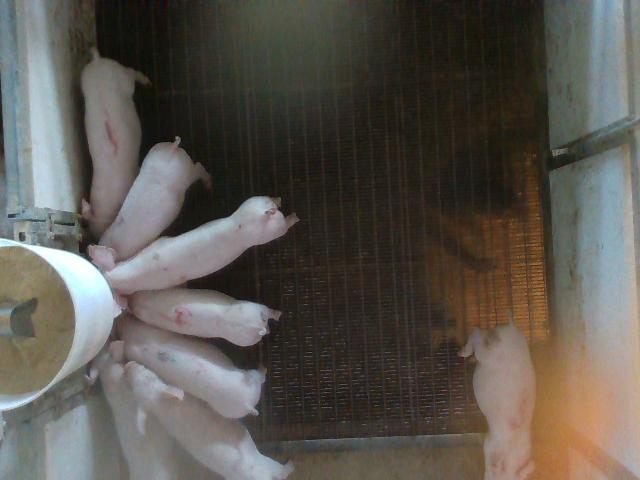pig-1: (81, 49, 149, 238)
pig-3: (460, 319, 536, 478)
pig-4: (128, 289, 281, 346)
